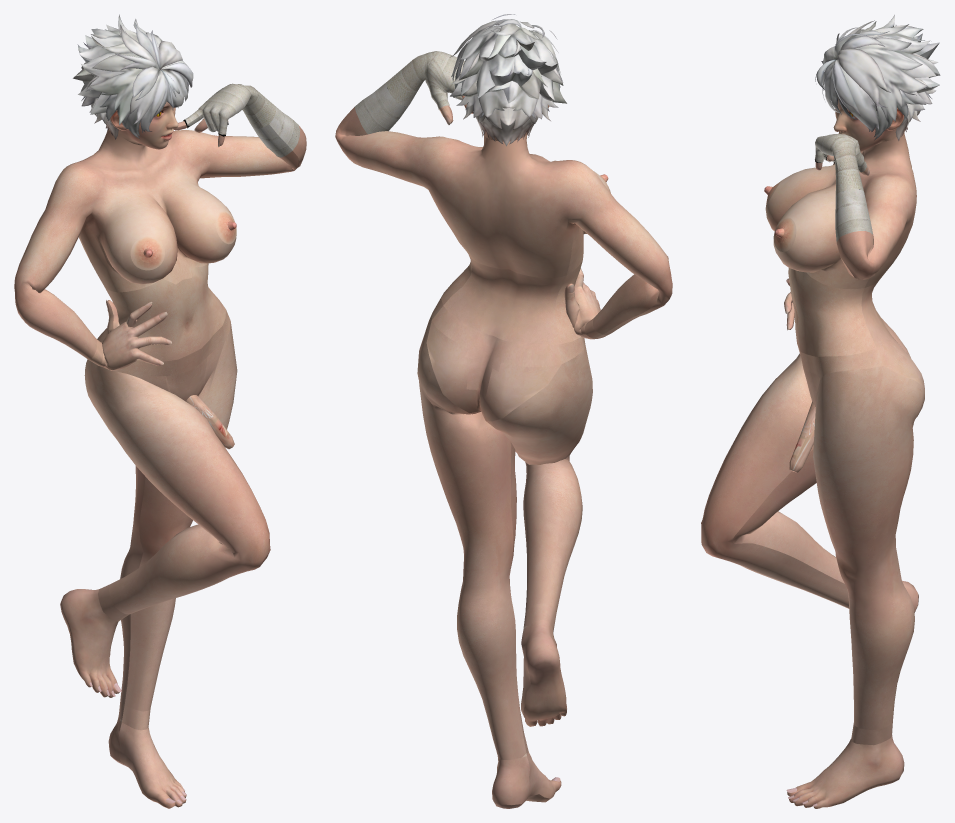
3 views of the same model, side by side, from view 1: azimuth 30°, elevation 25°; view 2: azimuth 150°, elevation 25°; view 3: azimuth 270°, elevation 25° (orthographic). The views are drawn at different scales.
Parts seen in each view (by area): view 1: Model001_24_body_0.6_1_1, Model001_24_hair1_0.3_0_0.001, Model001_25_body2_1_0_0, Model001_24_face_0.6_1_1, Cylinder; view 2: Model001_24_body_0.6_1_1, Model001_24_hair1_0.3_0_0.001, Model001_25_body2_1_0_0; view 3: Model001_24_body_0.6_1_1, Model001_24_hair1_0.3_0_0.001, Model001_25_body2_1_0_0, Model001_24_face_0.6_1_1, Cylinder.
Boxes of the visible parts, x1=… form: Model001_24_body_0.6_1_1: x1=14, y1=118, x2=306, y2=808; Model001_24_hair1_0.3_0_0.001: x1=73, y1=14, x2=193, y2=139; Model001_25_body2_1_0_0: x1=183, y1=83, x2=300, y2=157; Model001_24_face_0.6_1_1: x1=109, y1=101, x2=178, y2=149; Cylinder: x1=186, y1=395, x2=234, y2=449; Model001_24_body_0.6_1_1: x1=335, y1=105, x2=672, y2=808; Model001_24_hair1_0.3_0_0.001: x1=450, y1=14, x2=566, y2=146; Model001_25_body2_1_0_0: x1=354, y1=51, x2=464, y2=134; Model001_24_body_0.6_1_1: x1=701, y1=133, x2=924, y2=808; Model001_24_hair1_0.3_0_0.001: x1=815, y1=14, x2=940, y2=140; Model001_25_body2_1_0_0: x1=815, y1=134, x2=873, y2=242; Model001_24_face_0.6_1_1: x1=833, y1=97, x2=904, y2=151; Cylinder: x1=789, y1=401, x2=815, y2=472.
Size of what is drawn, in the model's own units: 26.64 by 63.71 by 17.73.
8 materials, 8 textured.
